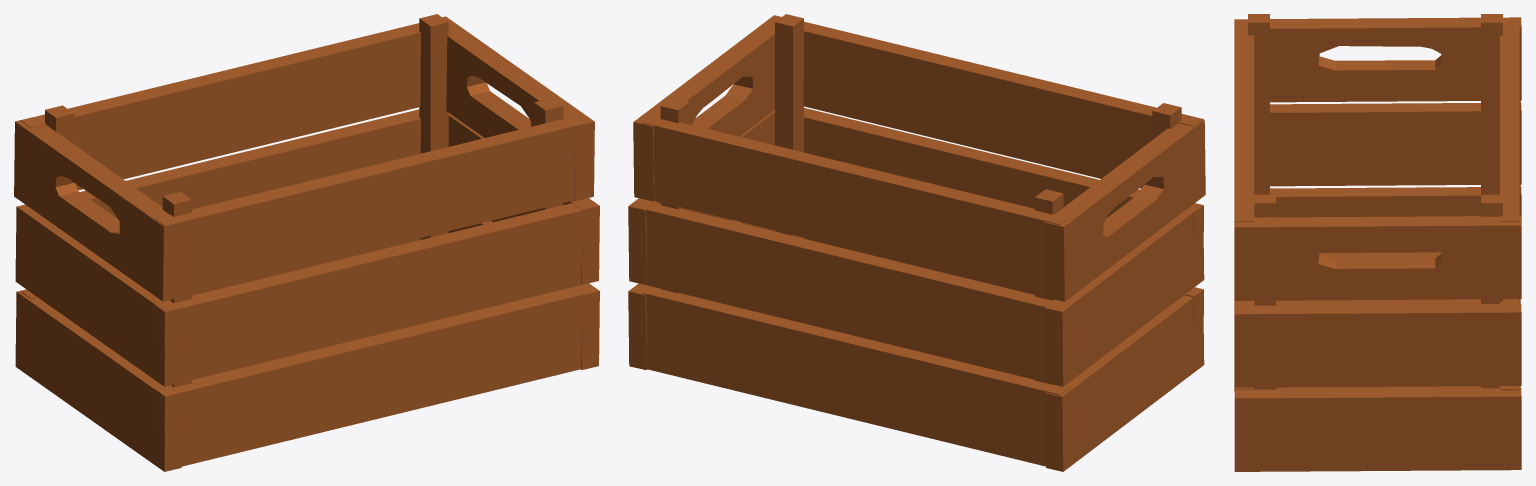
The model's file is Crate.fbx.
3 views of the same model, side by side, from view 1: azimuth 30°, elevation 25°; view 2: azimuth 150°, elevation 25°; view 3: azimuth 270°, elevation 25° (orthographic).
Visible parts, largest first — view 1: polySurface21; view 2: polySurface21; view 3: polySurface21.
Boxes of the visible parts, x1=… form: polySurface21: x1=14, y1=14, x2=599, y2=471; polySurface21: x1=628, y1=14, x2=1205, y2=471; polySurface21: x1=1234, y1=14, x2=1521, y2=471.
Bounding box in the file's own units: 89.77 × 50.41 × 51.2.
